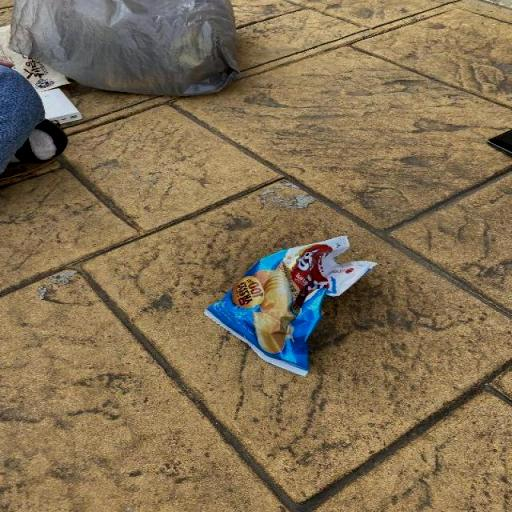polythene: (205, 236, 376, 375), (9, 0, 238, 95)
